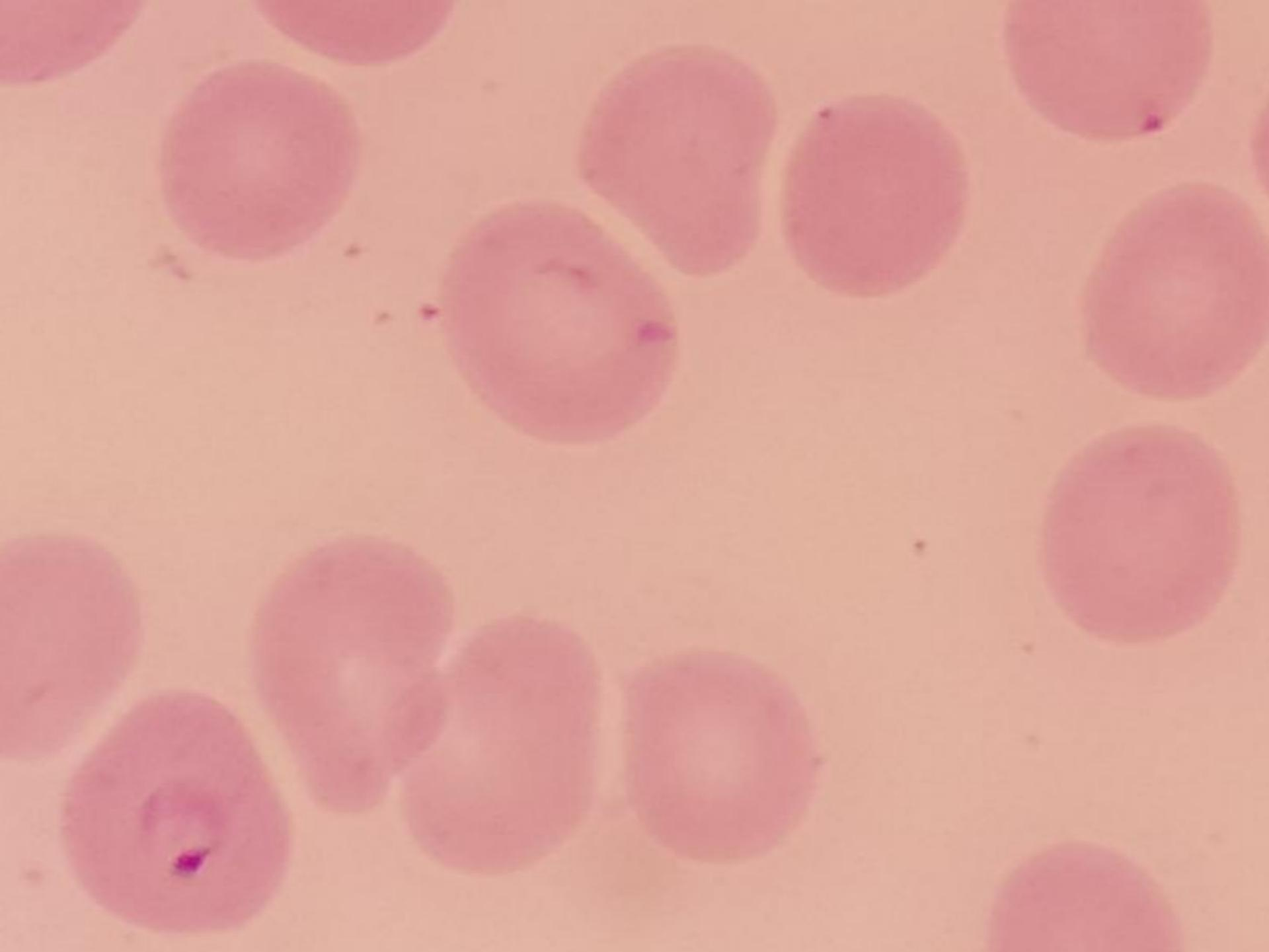Infected: (48, 686, 285, 940)
Uninfected: (247, 540, 457, 823), (436, 197, 676, 442), (408, 609, 598, 877), (582, 49, 787, 275), (1035, 428, 1244, 641), (615, 648, 820, 864), (780, 82, 966, 300), (159, 62, 355, 263), (1084, 181, 1256, 400), (0, 531, 144, 760), (1003, 0, 1212, 148)
